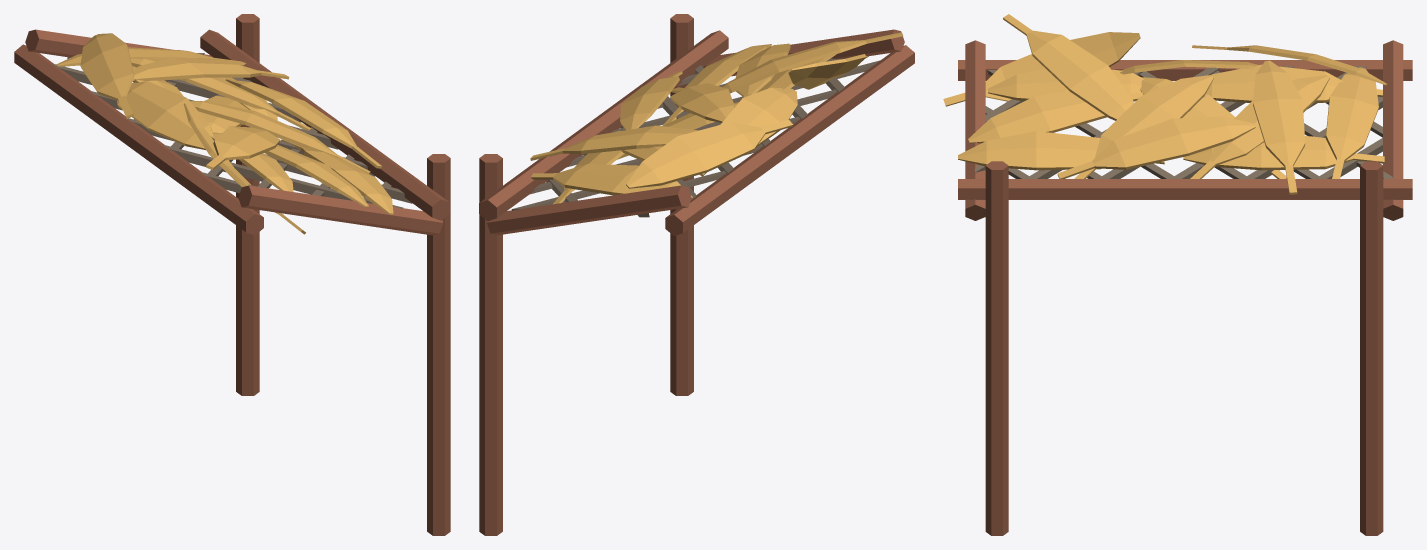
File: Awning B.glb
3 views of the same model, side by side, from view 1: azimuth 30°, elevation 25°; view 2: azimuth 150°, elevation 25°; view 3: azimuth 270°, elevation 25° (orthographic). The views are drawn at different scales.
Parts seen in each view (by area): view 1: Awning B; view 2: Awning B; view 3: Awning B.
Boxes of the visible parts, <box> form: Awning B: <box>14,14,450,535</box>; Awning B: <box>479,14,914,535</box>; Awning B: <box>943,14,1412,535</box>.
Size of the model in its own units: 205 by 348 by 359.
